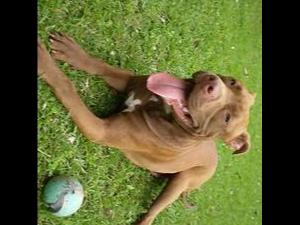dog: (38, 29, 257, 225)
